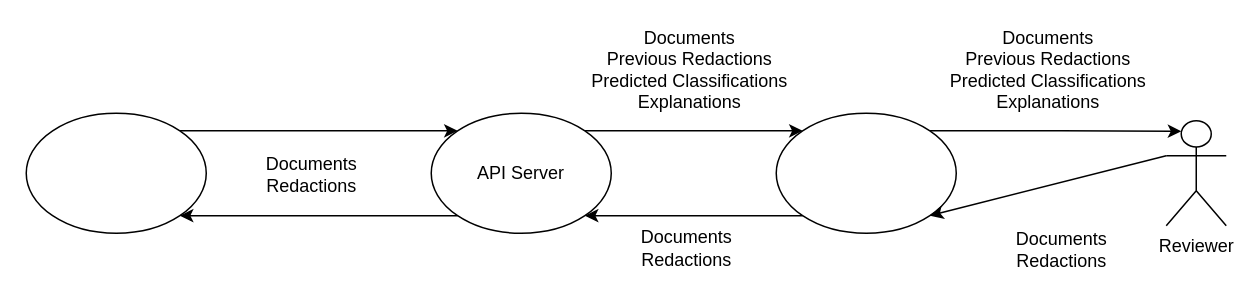
Image size: 1260x297. Some labels were removed from this diagram. The centre of each missing label's shape, as x and y in pixels:
Database: the point at 115,172
Web frontend: the point at 865,172
